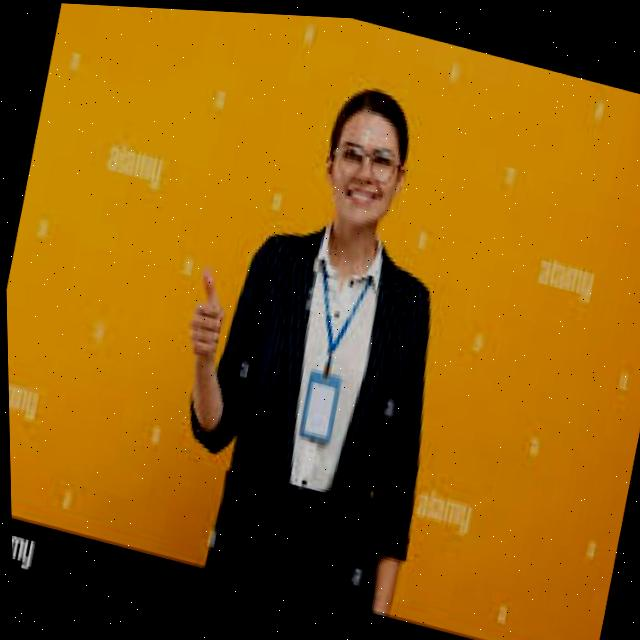id_card: (270, 232, 390, 453)
